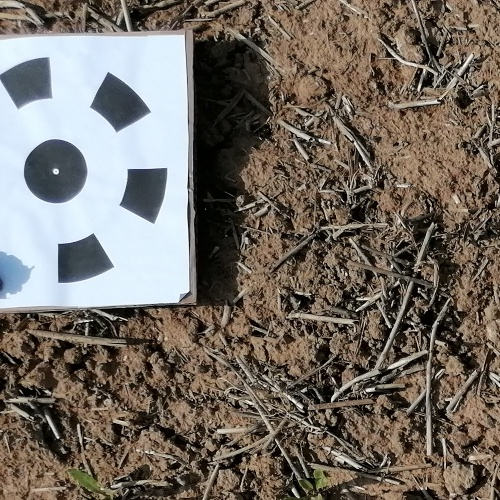beet: (67, 470, 118, 500), (295, 470, 328, 500)
